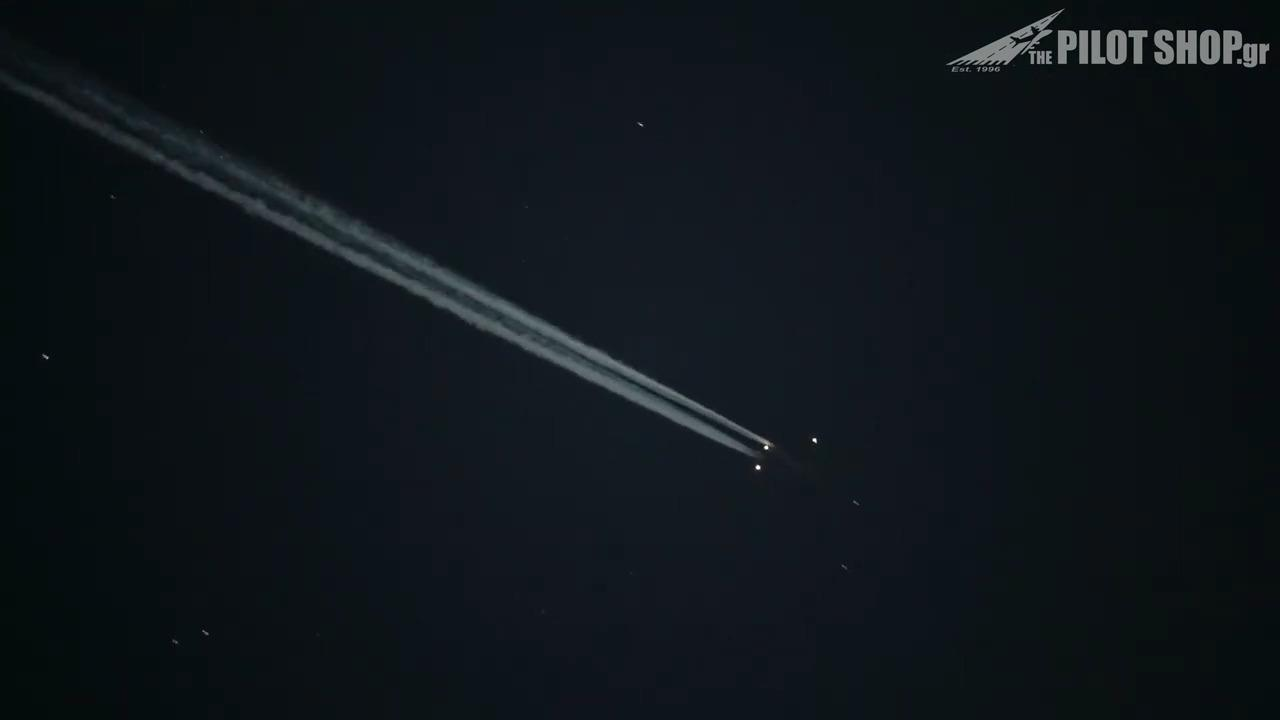Plane: (671, 379, 839, 503)
